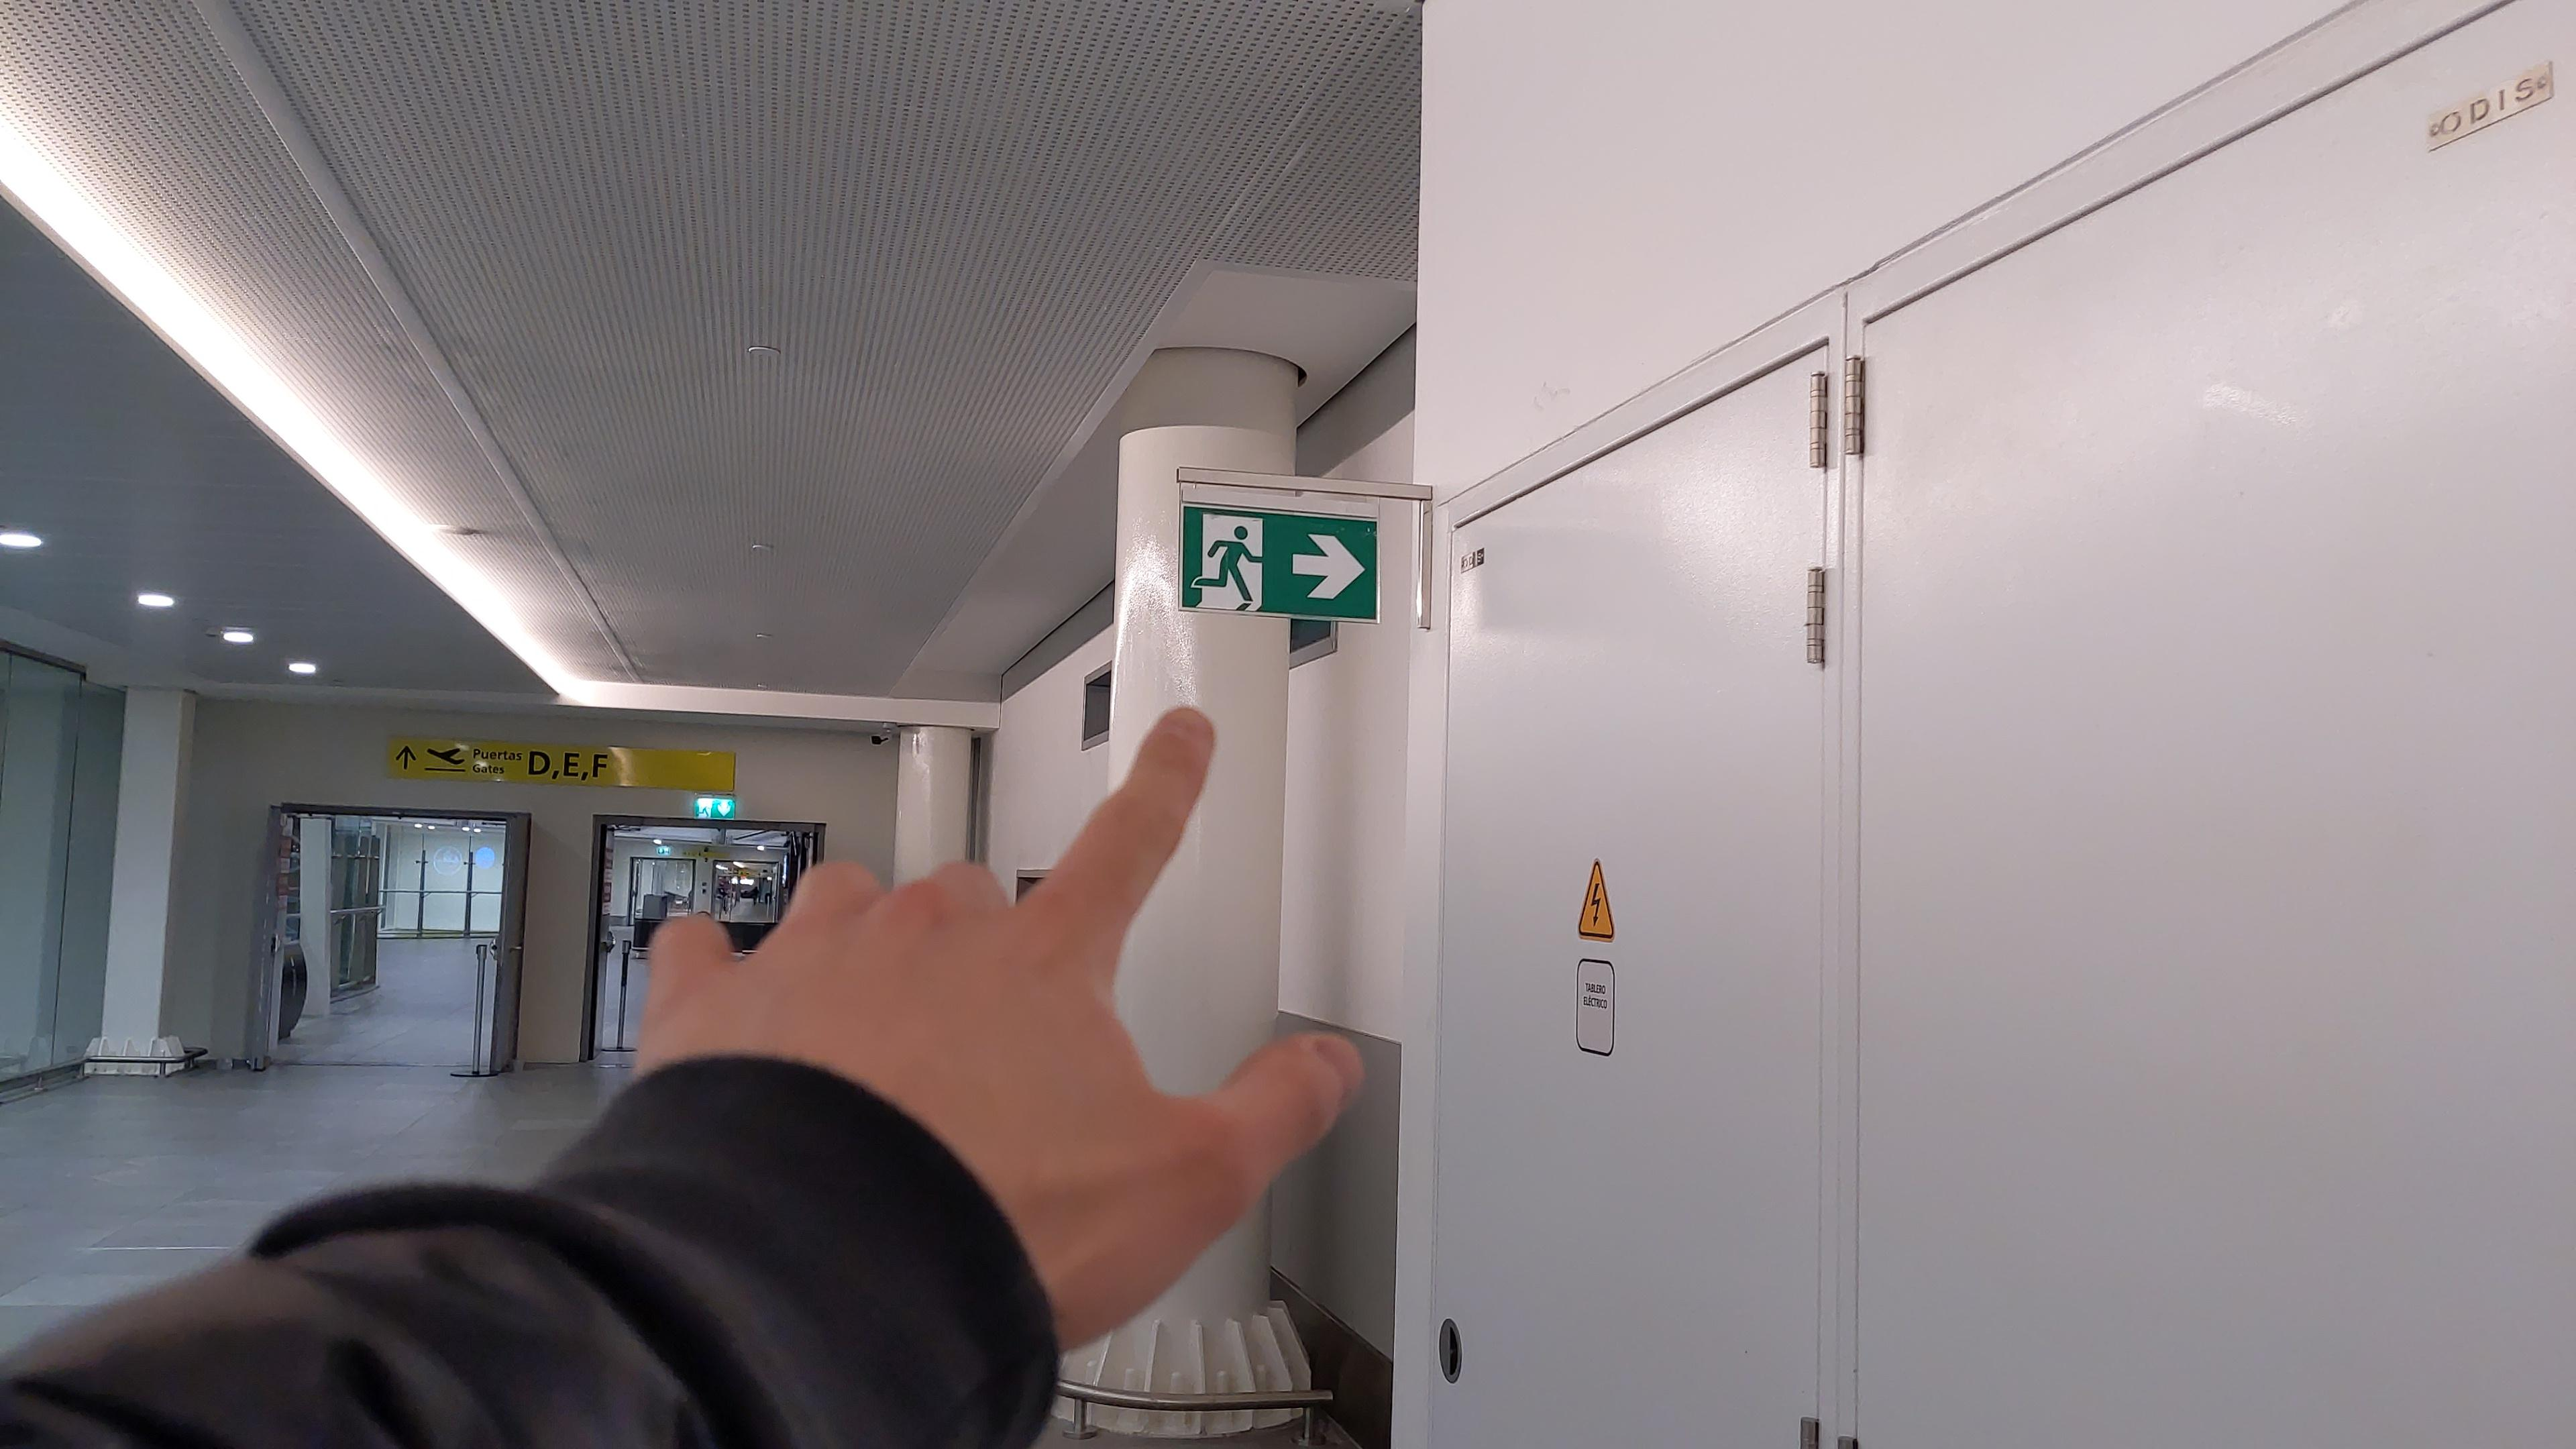airplane symbol: (423, 745, 467, 766)
danger-electricity: (1575, 855, 1615, 943)
emergency down arrow: (717, 801, 731, 817)
emergency exit: (1189, 510, 1267, 616), (697, 803, 711, 817)
emergency right arrow: (1290, 529, 1369, 603)
